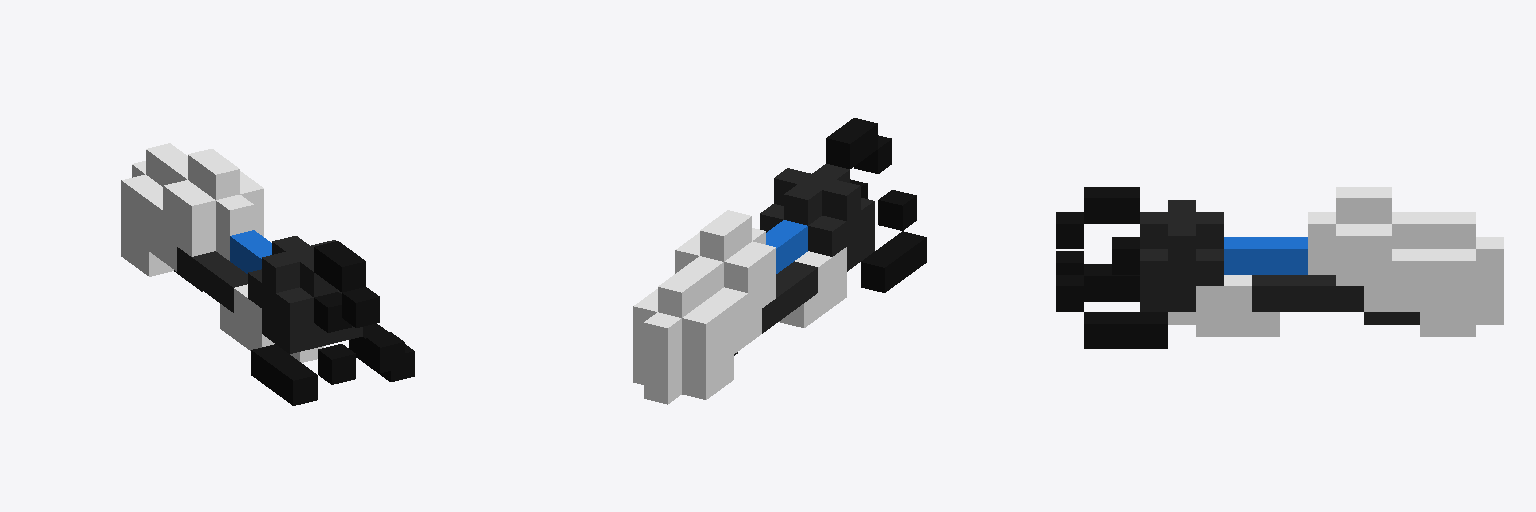
3 renders of one model, left to right at view 1: azimuth 30°, elevation 25°; view 2: azimuth 150°, elevation 25°; view 3: azimuth 270°, elevation 25°, orthographic.
Visible parts, largest first — view 1: object 1; view 2: object 1; view 3: object 1.
Boxes of the visible parts, box(x1,y1,x2,y2) form: object 1: box(121, 143, 414, 405); object 1: box(633, 118, 926, 404); object 1: box(1056, 187, 1503, 348).
Size of the model in its own units: 0.5 by 0.5 by 1.6.
1 materials, 1 textured.